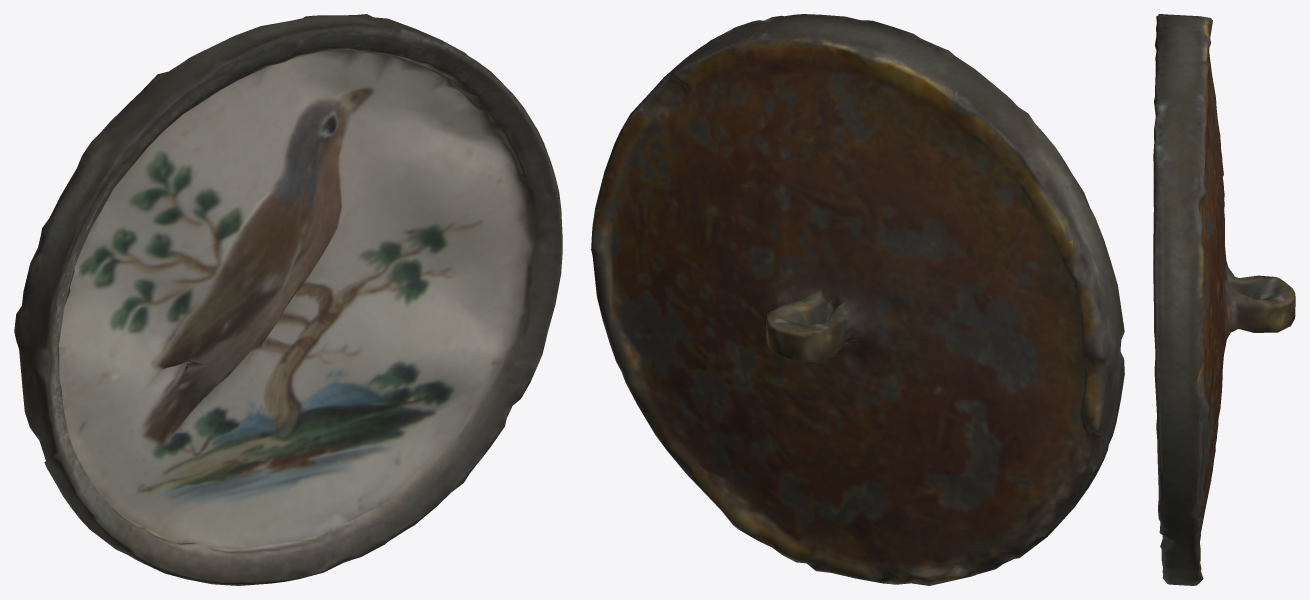
Rendered from artifact_139991.glb.
3 renders of one model, left to right at view 1: azimuth 30°, elevation 25°; view 2: azimuth 150°, elevation 25°; view 3: azimuth 270°, elevation 25°, orthographic. The views are drawn at different scales.
Visible parts, largest first — view 1: MNT_04706_LOD1; view 2: MNT_04706_LOD1; view 3: MNT_04706_LOD1.
Part boxes in pixels (left/top/right/bottom): MNT_04706_LOD1: left=14, top=14, right=562, bottom=585; MNT_04706_LOD1: left=591, top=14, right=1124, bottom=585; MNT_04706_LOD1: left=1153, top=14, right=1295, bottom=585.
Size of the model in its own units: 0.0398 by 0.04 by 0.01.
1 material, 1 textured.
